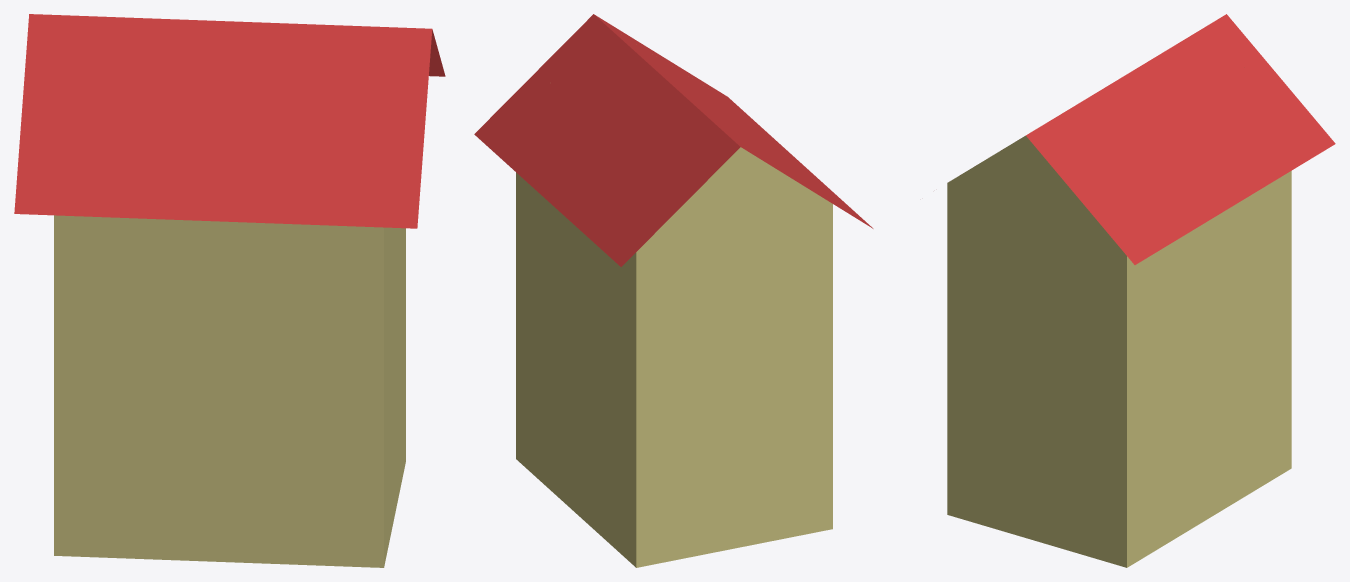
3 views of the same model, side by side, from view 1: azimuth 30°, elevation 25°; view 2: azimuth 150°, elevation 25°; view 3: azimuth 270°, elevation 25° (orthographic). The views are drawn at different scales.
Size of the model in its own units: 7.08 by 6.81 by 7.28.
